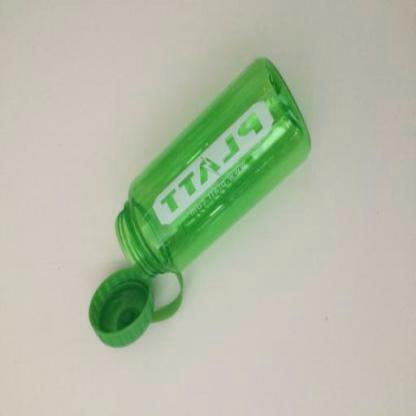Plastic: (84, 53, 317, 354)
